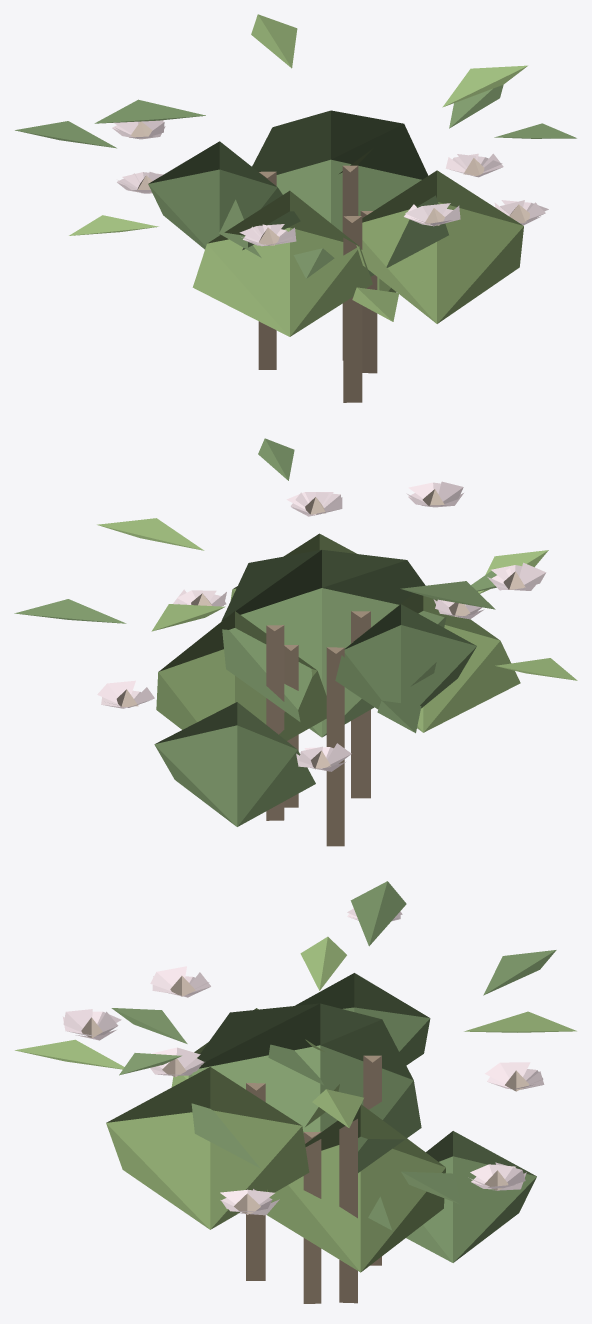
File: guan.huanglu@flowering__spring.glb
3 views of the same model, one above another, from view 1: azimuth 30°, elevation 25°; view 2: azimuth 150°, elevation 25°; view 3: azimuth 270°, elevation 25° (orthographic). The views are drawn at different scales.
Visible parts, largest first — view 1: guan.huanglu@flowering__spring; view 2: guan.huanglu@flowering__spring; view 3: guan.huanglu@flowering__spring.
Part boxes in pixels (bbox=[...]): guan.huanglu@flowering__spring: bbox=[15, 14, 576, 402]; guan.huanglu@flowering__spring: bbox=[14, 438, 577, 846]; guan.huanglu@flowering__spring: bbox=[15, 881, 576, 1303].
Bounding box in the file's own units: 4.46 × 2.46 × 4.11.
